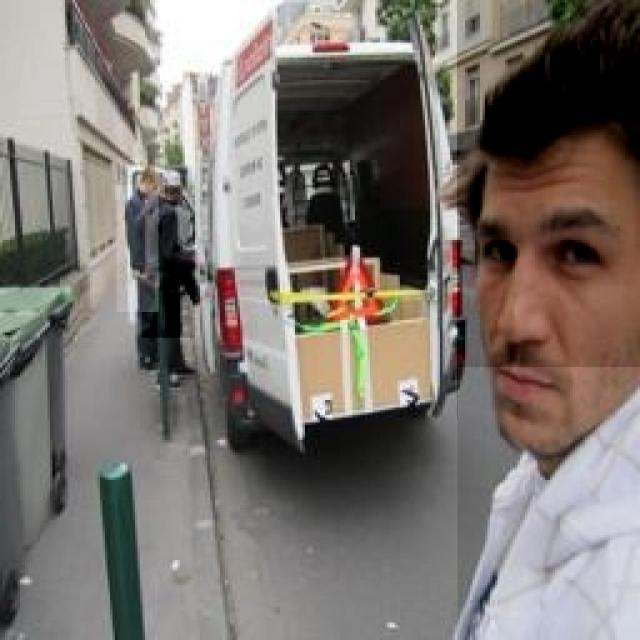Helmet: (457, 0, 640, 420), (457, 367, 640, 640), (141, 195, 195, 338), (116, 185, 158, 312), (111, 158, 165, 208), (157, 166, 192, 213)
